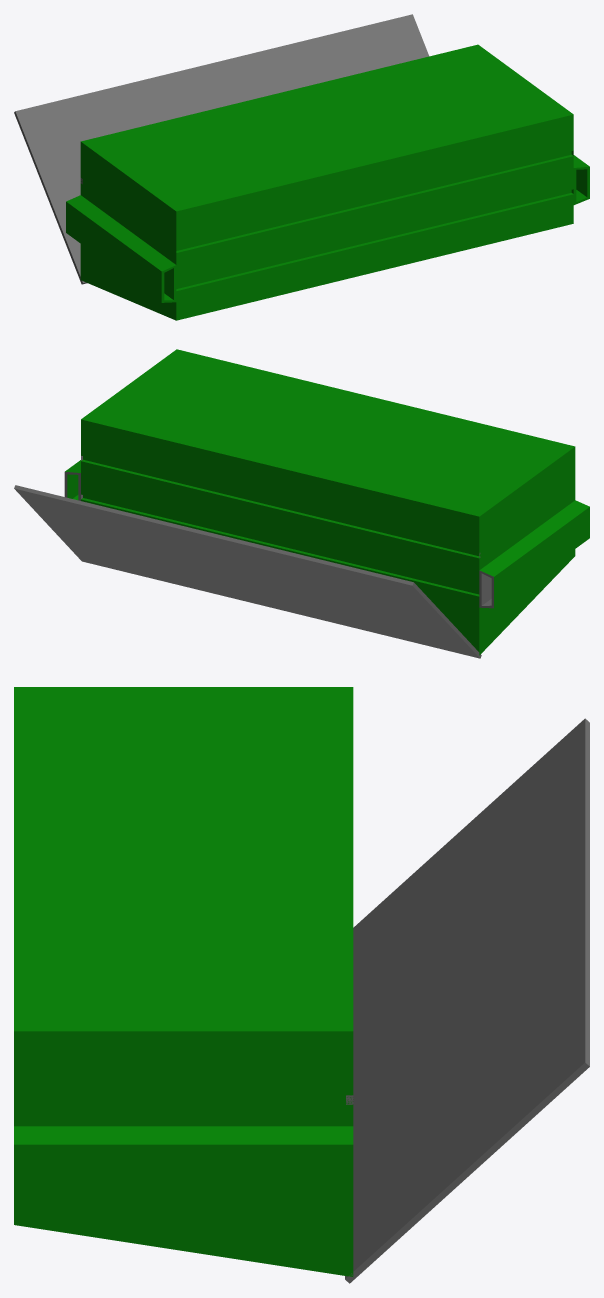
Rendered from dumpster.fbx.
3 views of the same model, one above another, from view 1: azimuth 30°, elevation 25°; view 2: azimuth 150°, elevation 25°; view 3: azimuth 270°, elevation 25° (orthographic). The views are drawn at different scales.
Parts seen in each view (by area): view 1: Dumpster; view 2: Dumpster; view 3: Dumpster.
Part boxes in pixels (<box>): Dumpster: <box>14,14,589,320</box>; Dumpster: <box>14,349,589,658</box>; Dumpster: <box>14,687,589,1283</box>.
Bounding box in the file's own units: 12.93 × 4.11 × 8.49.
